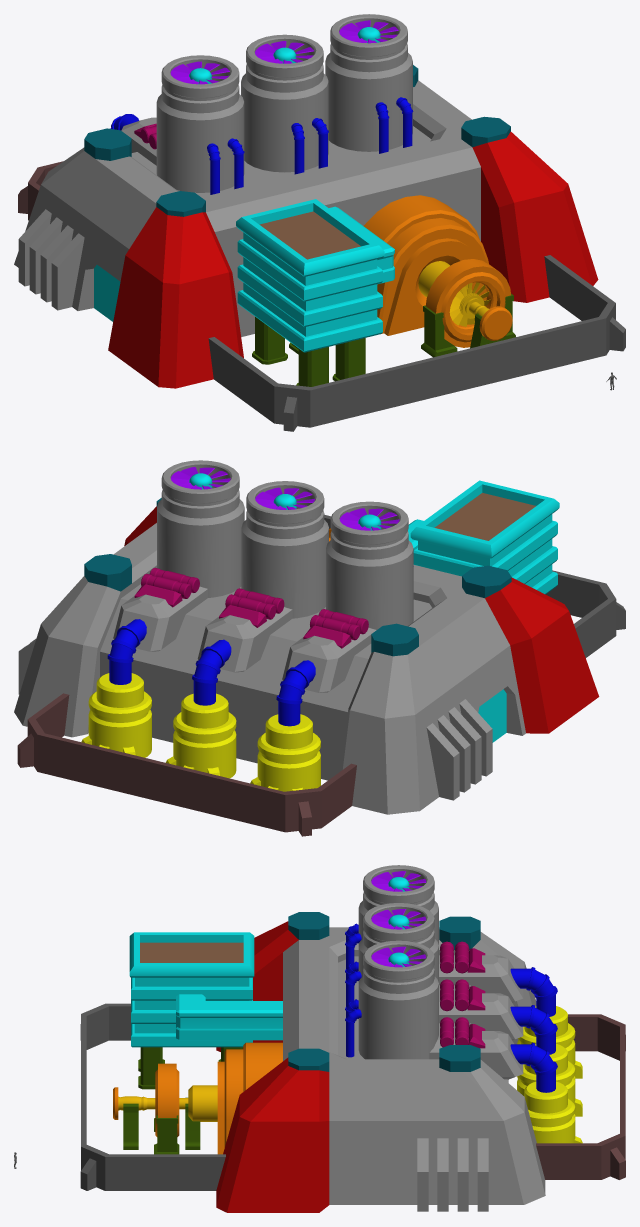
File: Power_Station_Cempa.fbx
3 renders of one model, top to bottom at view 1: azimuth 30°, elevation 25°; view 2: azimuth 150°, elevation 25°; view 3: azimuth 270°, elevation 25°, orthographic. The views are drawn at different scales.
Parts seen in each view (by area): view 1: polySurface142, polySurface89; view 2: polySurface142; view 3: polySurface142, polySurface89.
Boxes of the visible parts, <box> form: polySurface142: <box>14,14,625,431</box>; polySurface89: <box>363,195,515,357</box>; polySurface142: <box>14,460,625,836</box>; polySurface142: <box>80,865,625,1212</box>; polySurface89: <box>113,1042,282,1154</box>.
Bounding box in the file's own units: 79.07 × 37.05 × 104.
